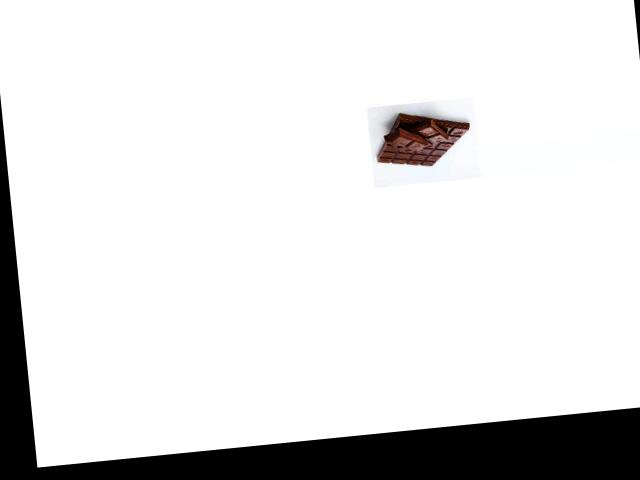chocolate: (371, 102, 474, 176)
